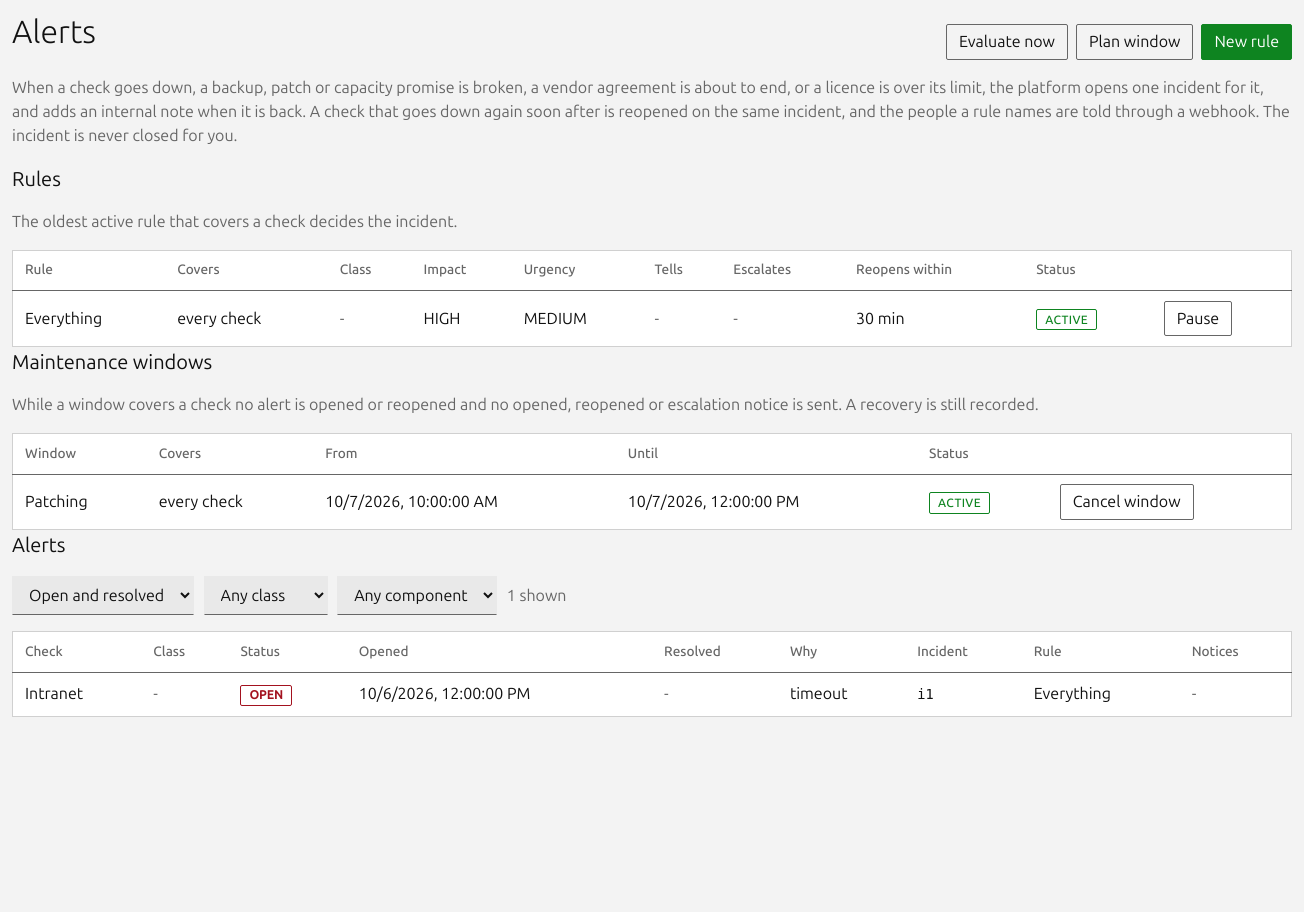
Test: actions › evaluates now and says what it did; a failure is shown
Click the button "Evaluate now": point(1007, 42) [946,24,1068,60]
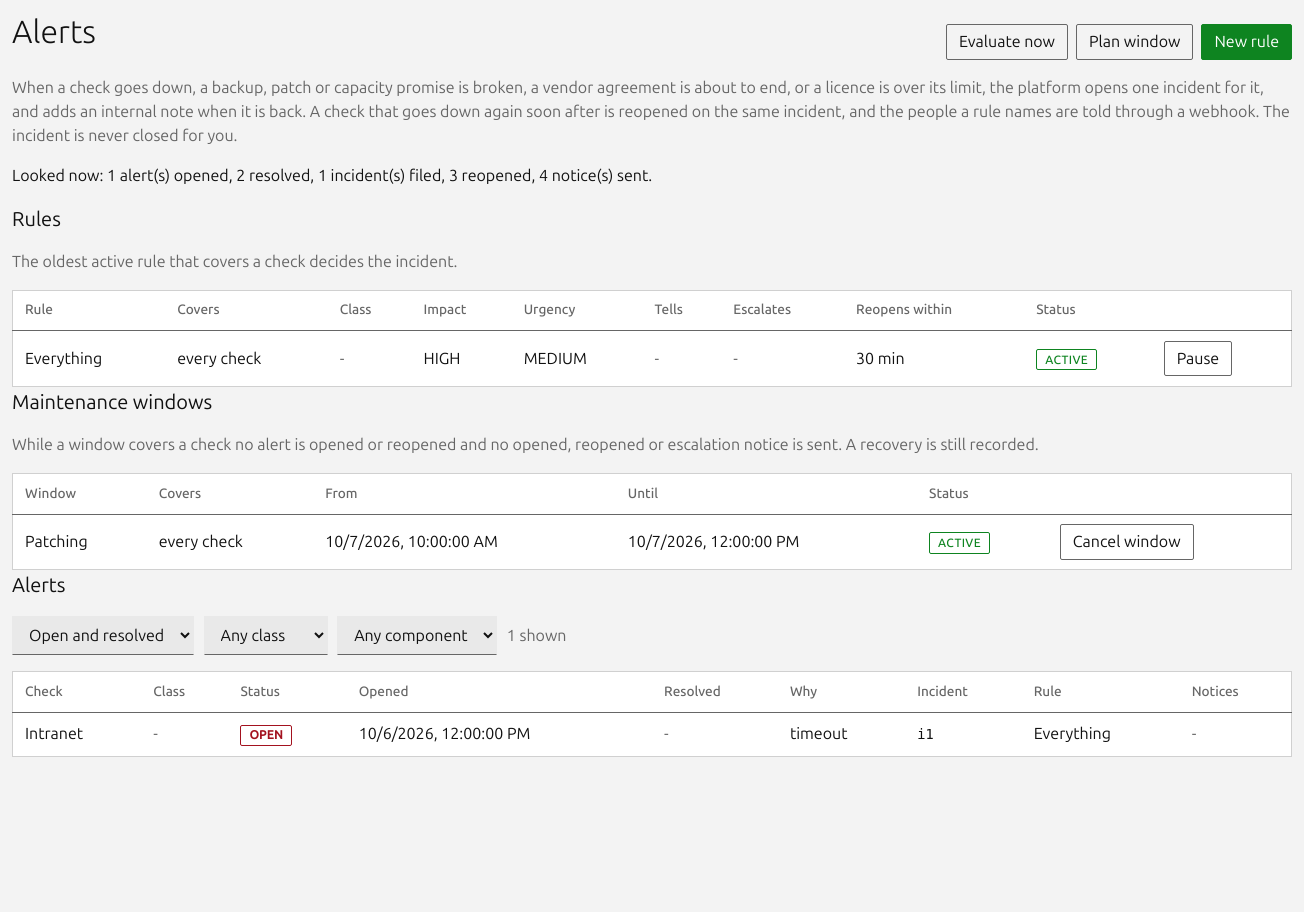
Result: the message shows "1 alert(s) opened, 2 resolved, 1 incident(s) filed, 3 reopened, 4 notice(s) sent." at [12,166,652,185]
